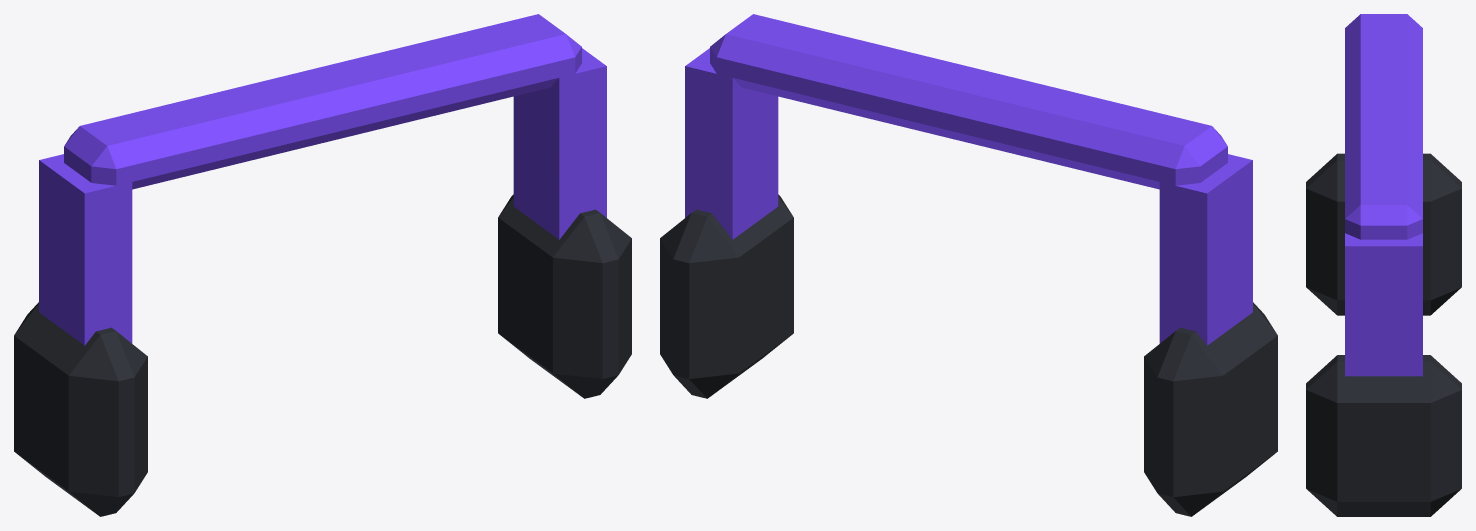
File: acc_headphones.glb
3 renders of one model, left to right at view 1: azimuth 30°, elevation 25°; view 2: azimuth 150°, elevation 25°; view 3: azimuth 270°, elevation 25°, orthographic. The views are drawn at different scales.
Parts seen in each view (by area): view 1: acc_headphones; view 2: acc_headphones; view 3: acc_headphones.
Part boxes in pixels (x1,y1,x2,y2): acc_headphones: [14, 14, 631, 516]; acc_headphones: [660, 14, 1277, 516]; acc_headphones: [1306, 14, 1461, 516].
Size of the model in its own units: 0.712 by 0.43 by 0.2.
